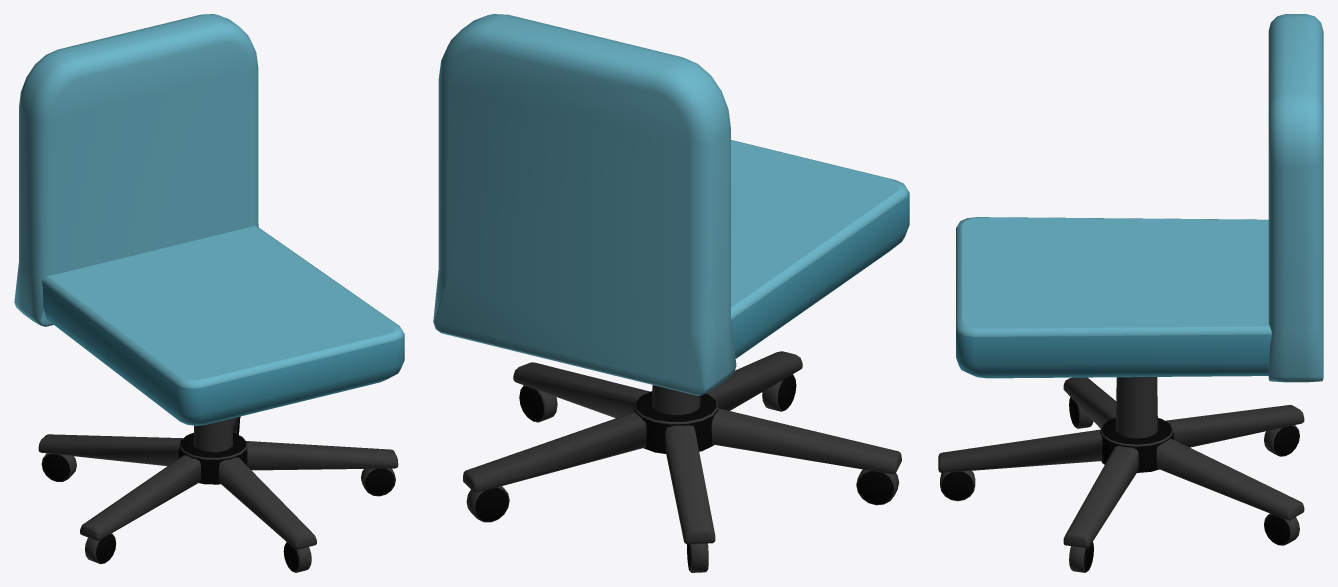
The model's file is 3d_DeskChair.fbx.
The picture shows the model from 3 angles, left to right: view 1: azimuth 30°, elevation 25°; view 2: azimuth 150°, elevation 25°; view 3: azimuth 270°, elevation 25°; orthographic projection. The views are drawn at different scales.
Visible parts, largest first — view 1: 3d_DeskChair; view 2: 3d_DeskChair; view 3: 3d_DeskChair.
Boxes of the visible parts, bbox=[...] form: 3d_DeskChair: bbox=[14, 14, 404, 572]; 3d_DeskChair: bbox=[433, 14, 909, 572]; 3d_DeskChair: bbox=[938, 14, 1323, 572].
Bounding box in the file's own units: 0.5076 × 0.6469 × 0.5089.
